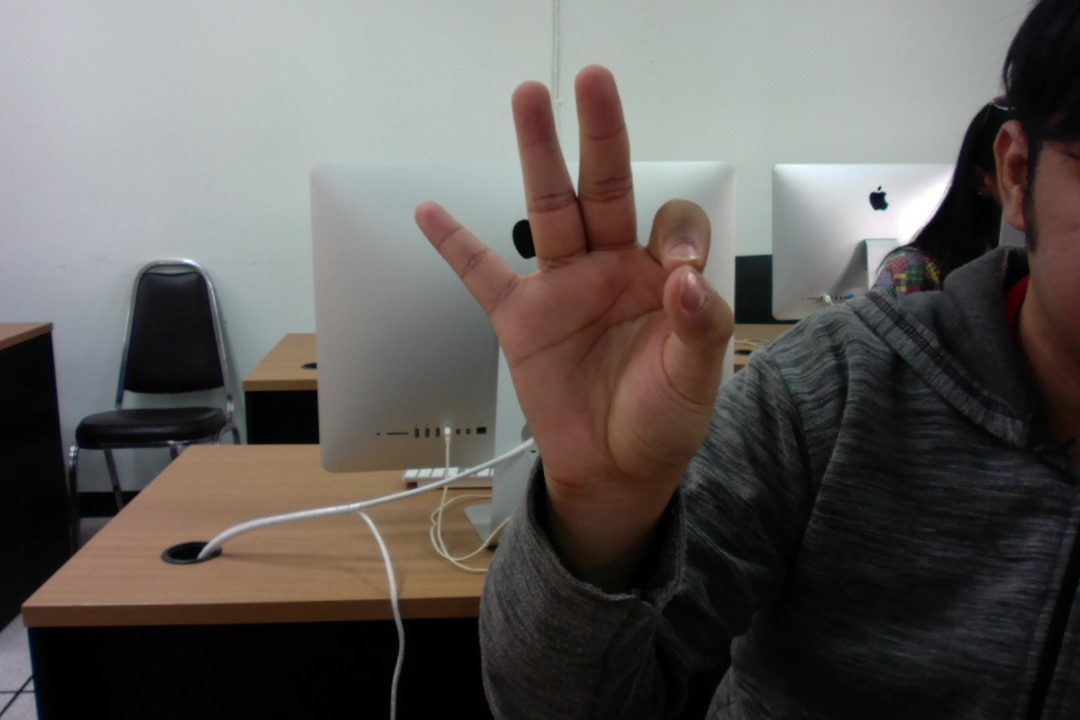for: (368, 31, 793, 573)
